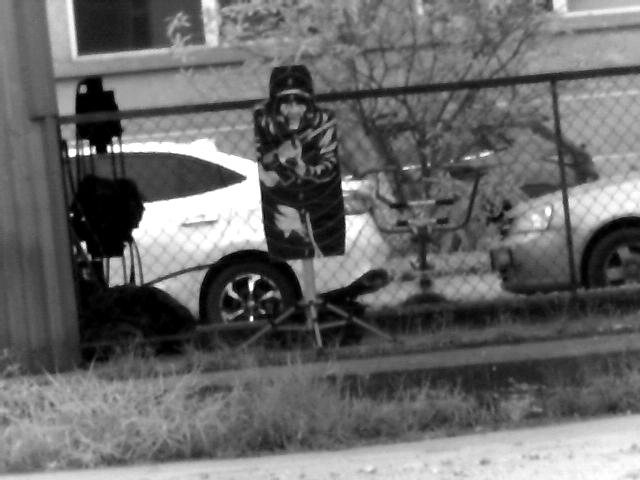chan: (227, 251, 392, 354)
